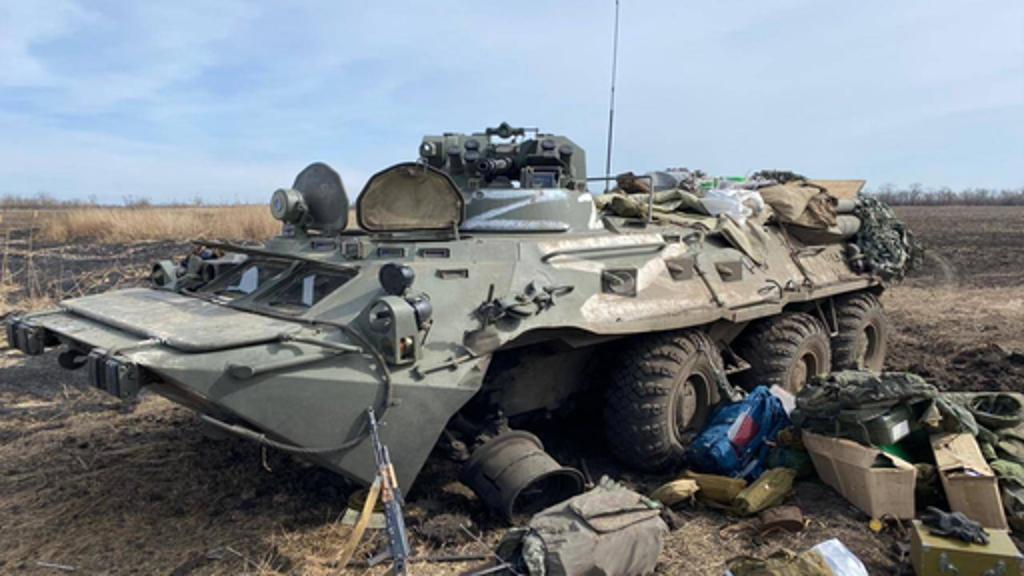APC-IFV: (4, 114, 906, 524)
